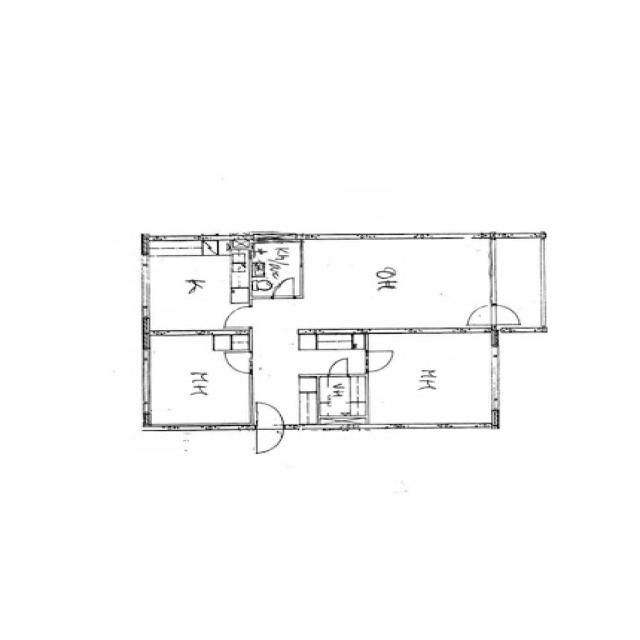door: (253, 400, 286, 455), (363, 348, 398, 373), (464, 302, 496, 329), (491, 302, 524, 328), (222, 304, 254, 329), (222, 350, 254, 374), (272, 276, 298, 300), (326, 356, 350, 377)
window: (484, 343, 506, 410), (484, 240, 503, 306), (137, 348, 155, 408), (137, 260, 154, 315), (410, 324, 466, 336)
zone: (300, 238, 494, 330), (367, 333, 497, 429), (251, 330, 368, 427), (144, 236, 250, 334), (144, 334, 252, 428), (493, 234, 546, 328), (249, 239, 303, 295)
